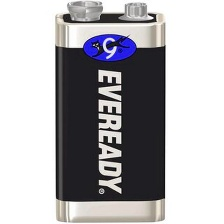battery: (48, 0, 173, 223)
